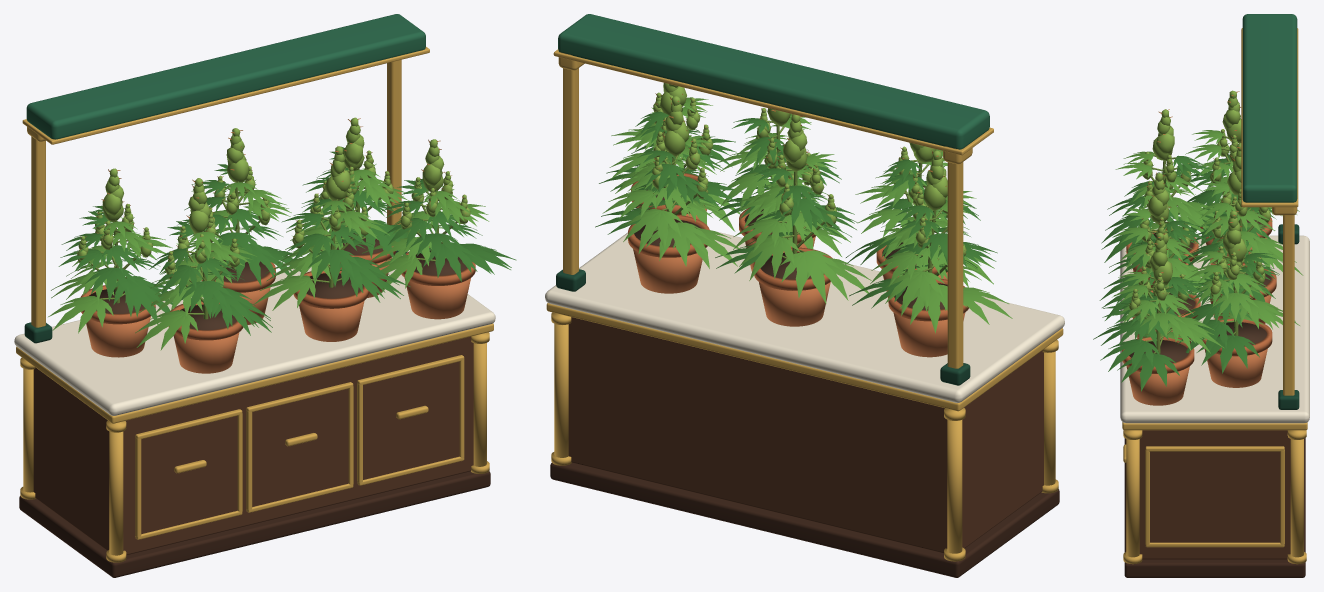
File: grow_bench.glb
3 renders of one model, left to right at view 1: azimuth 30°, elevation 25°; view 2: azimuth 150°, elevation 25°; view 3: azimuth 270°, elevation 25°, orthographic. The views are drawn at different scales.
Parts seen in each view (by area): view 1: Body, Top, LightBar, Plinth, Drawer2, Drawer0, Drawer1, TopBand, Post-1, Post1, LightBarTrim, P4Pot (+36 smaller); view 2: Body, Top, LightBar, Plinth, TopBand, Post-1, Post1, LightBarTrim, P2Pot, P1Pot, Column-11, Column11 (+20 smaller); view 3: EndPanel, Top, LightBar, Body, Plinth, Post1, Column1-1, Column11, P2Pot, P5Pot, TopBand, LightBarTrim (+46 smaller).
Boxes of the visible parts, x1,y1,x2,y2 form: Body: [33, 336, 473, 555]; Top: [14, 251, 495, 415]; LightBar: [26, 14, 425, 139]; Plinth: [19, 471, 490, 577]; Drawer2: [363, 361, 459, 479]; Drawer0: [141, 415, 237, 533]; Drawer1: [252, 388, 348, 506]; TopBand: [16, 323, 493, 423]; Post-1: [31, 136, 45, 327]; Post1: [387, 59, 401, 225]; LightBarTrim: [22, 47, 429, 144]; P4Pot: [299, 300, 364, 341]; Body: [568, 317, 1043, 553]; Top: [545, 230, 1064, 402]; LightBar: [558, 14, 989, 149]; Plinth: [550, 463, 1059, 577]; TopBand: [546, 303, 1063, 411]; Post-1: [947, 162, 963, 368]; Post1: [563, 68, 578, 274]; LightBarTrim: [553, 49, 993, 155]; P2Pot: [633, 249, 702, 293]; P1Pot: [759, 282, 830, 326]; Column-11: [947, 420, 962, 553]; Column11: [554, 324, 568, 457]; EndPanel: [1150, 451, 1280, 542]; Top: [1120, 235, 1309, 423]; LightBar: [1242, 14, 1297, 202]; Body: [1139, 430, 1290, 559]; Plinth: [1124, 438, 1305, 577]; Post1: [1283, 215, 1294, 395]; Column1-1: [1126, 439, 1139, 557]; Column11: [1290, 439, 1303, 557]; P2Pot: [1204, 348, 1267, 387]; P5Pot: [1126, 366, 1189, 405]; TopBand: [1122, 422, 1307, 430]; LightBarTrim: [1241, 28, 1298, 207].
Bounding box in the file's own units: 2.2 × 2.05 × 1.03.
